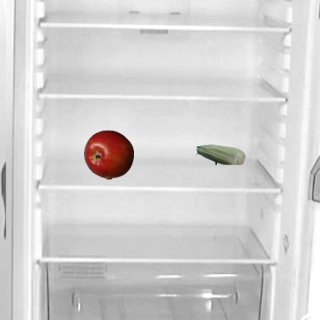Apple Braeburn: (83, 129, 133, 179)
Corn Husk: (195, 129, 245, 179)
